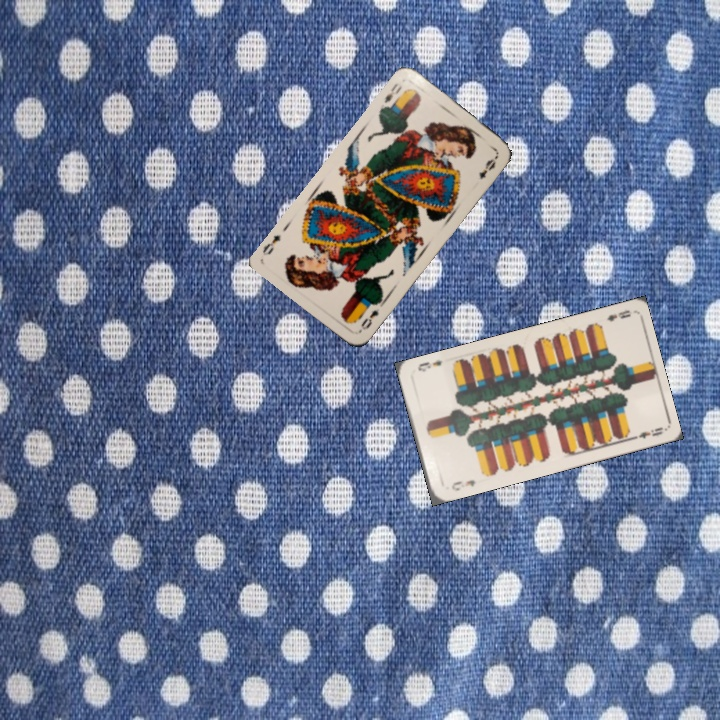E9: (447, 476, 478, 494), (603, 306, 633, 324)
EO: (355, 305, 382, 335), (380, 79, 405, 106)
